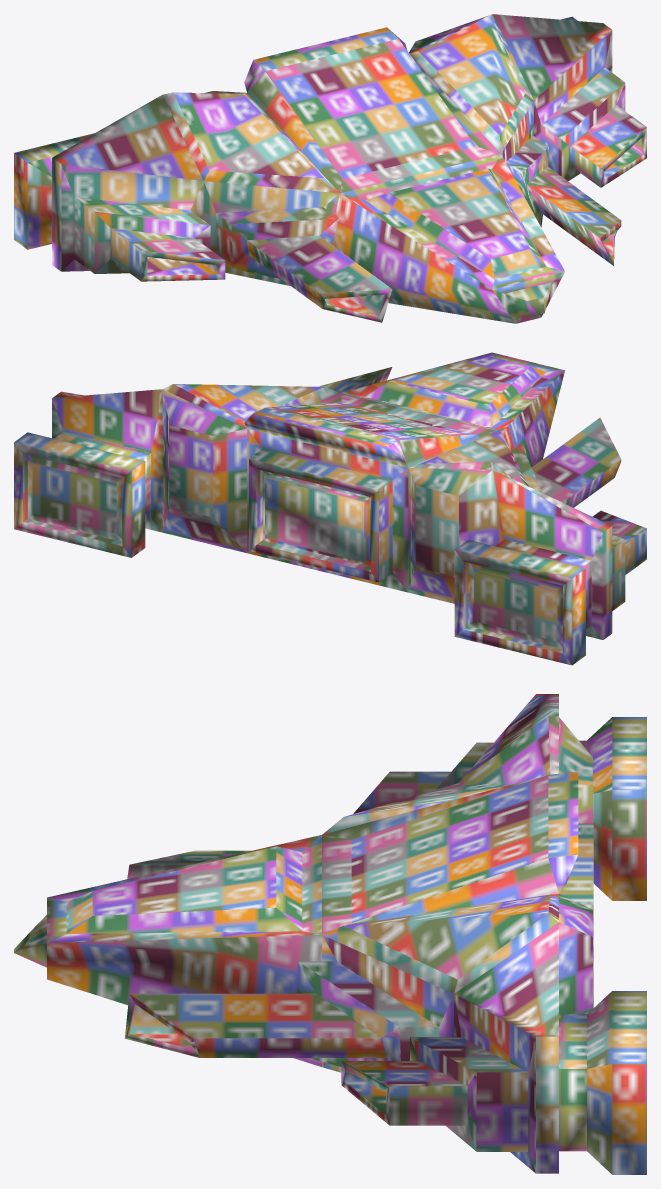
File: ship_1.dae
3 renders of one model, top to bottom at view 1: azimuth 30°, elevation 25°; view 2: azimuth 150°, elevation 25°; view 3: azimuth 270°, elevation 25°, orthographic. The views are drawn at different scales.
Visible parts, largest first — view 1: Cube1-0; view 2: Cube1-0; view 3: Cube1-0.
Boxes of the visible parts, left/top/right/bottom form: Cube1-0: left=14, top=14, right=646, bottom=323; Cube1-0: left=14, top=352, right=646, bottom=665; Cube1-0: left=14, top=694, right=646, bottom=1174.
Bounding box in the file's own units: 6.93 × 1.76 × 5.34.
